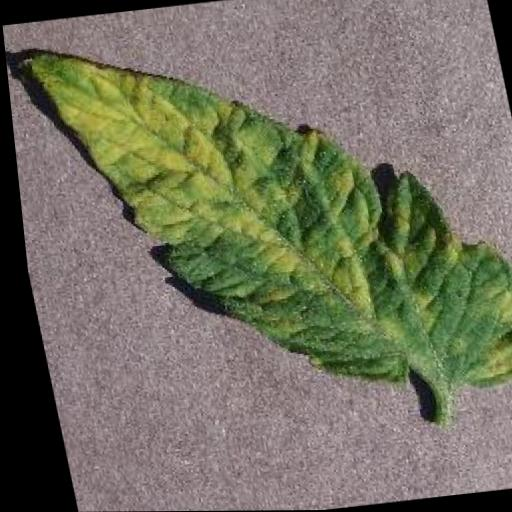Leaf Mold: (10, 4, 512, 440)
